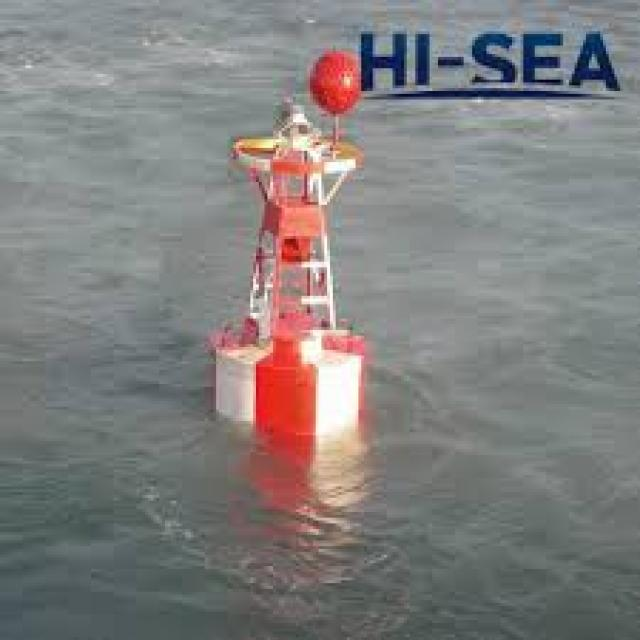buoy: (192, 35, 388, 451)
